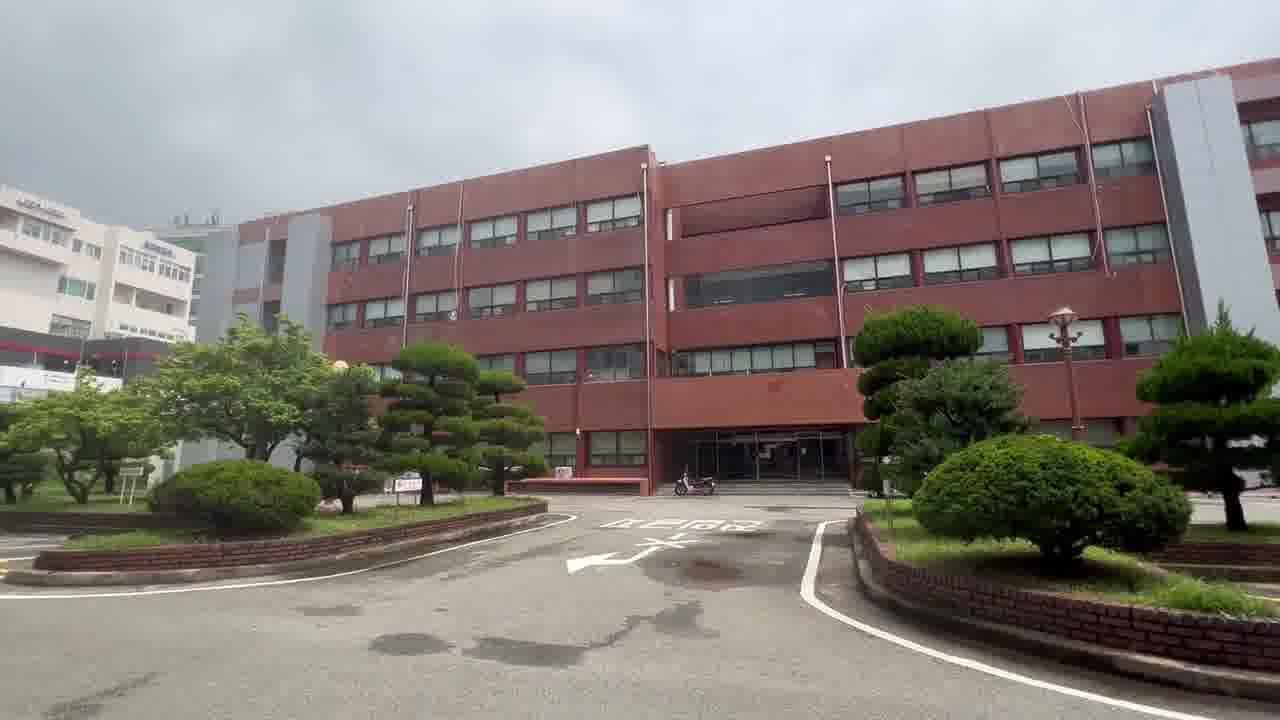building: (510, 157, 848, 476)
